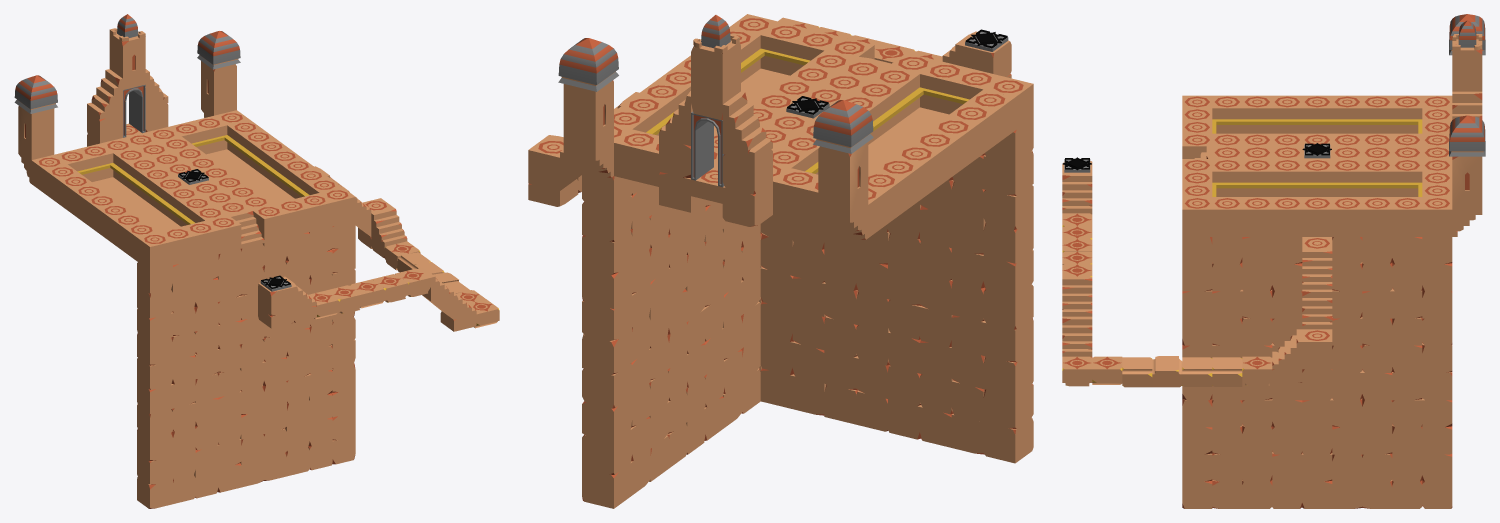
The model's file is Stage1-1.fbx.
The picture shows the model from 3 angles, left to right: view 1: azimuth 30°, elevation 25°; view 2: azimuth 150°, elevation 25°; view 3: azimuth 270°, elevation 25°; orthographic projection. The views are drawn at different scales.
Visible parts, largest first — view 1: Box294, Box416, Box436, Door004, Box499, Box404, Box490, Box492, Box489, Box491, Box480, Box493; view 2: Box294, Box416, Door004, Box437, Box499, Box481, Box414, Line005, Line006, Box407, Box406, Box410; view 3: Box294, Box416, Box433, Box437, Box487, Box434, Box494, Box486, Box476, Box478, Box474, Box480 (+4 smaller).
Part boxes in pixels (x1,y1,x2,y2): Box294: (137,221,355,508); Box416: (14,14,355,270); Box436: (371,208,407,246); Door004: (123,84,145,137); Box499: (258,282,293,315); Box404: (228,209,264,248); Box490: (372,274,408,302); Box492: (327,285,362,313); Box489: (395,268,430,296); Box491: (350,279,385,308); Box480: (468,299,499,328); Box493: (308,290,339,319); Box294: (582,117,1033,508); Box416: (558,14,1033,239); Door004: (691,111,724,187); Box437: (528,136,563,190); Box499: (961,40,1011,76); Box481: (528,179,578,206); Box414: (691,167,722,203); Line005: (965,29,1008,51); Line006: (786,96,829,118); Box407: (820,72,869,92); Box406: (838,58,887,79); Box410: (765,112,813,133); Box294: (1182,237,1452,508); Box416: (1182,14,1485,236); Box433: (1302,249,1332,289); Box437: (1302,329,1332,369); Box487: (1062,316,1092,356); Box434: (1302,289,1332,329); Box494: (1062,173,1092,213); Box486: (1062,277,1092,316); Box476: (1152,356,1182,387); Box478: (1122,357,1152,387); Box474: (1242,356,1272,386); Box480: (1062,356,1092,386).
Bounding box in the file's own units: 263 × 317 × 282.
